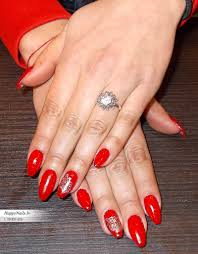nail: (57, 169, 76, 200), (104, 210, 124, 239), (38, 170, 56, 202), (128, 216, 146, 247), (143, 195, 161, 225), (26, 149, 43, 177), (15, 67, 34, 90), (76, 189, 92, 211), (171, 118, 187, 137), (94, 148, 109, 167)
